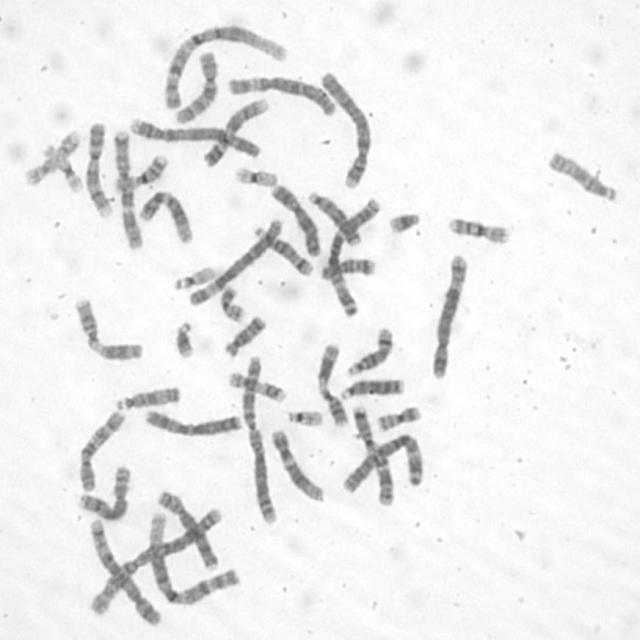A1: (158, 22, 290, 112), (144, 506, 242, 607)
A2: (84, 507, 226, 617), (239, 351, 279, 528)
A3: (322, 194, 383, 319), (338, 431, 428, 496)
B4: (316, 67, 373, 192), (128, 116, 264, 161)
B5: (85, 516, 164, 628), (429, 251, 471, 380)
C10: (75, 406, 126, 492), (171, 48, 220, 126)
C11: (71, 294, 146, 364), (314, 340, 351, 429)
C12: (268, 424, 325, 504), (137, 187, 195, 245)
C6: (184, 214, 284, 308), (224, 71, 337, 118)
C7: (348, 401, 396, 508), (110, 126, 145, 251)
C8: (153, 486, 220, 572), (75, 462, 132, 522)
C9: (200, 95, 270, 168), (83, 119, 114, 220)
D13: (304, 187, 362, 248), (338, 374, 407, 402)
D14: (250, 222, 314, 277), (343, 322, 395, 378)
D15: (545, 147, 620, 205), (113, 382, 182, 412)
E16: (110, 150, 170, 194), (444, 213, 511, 246)
E17: (21, 127, 83, 188), (225, 368, 288, 405)
E18: (221, 313, 268, 359), (318, 254, 377, 282)
F19: (40, 139, 84, 195), (232, 163, 279, 189)
F20: (374, 402, 423, 433), (218, 283, 248, 324)
G21: (172, 316, 197, 362), (386, 209, 422, 235)
G22: (171, 262, 217, 292), (284, 406, 324, 429)
X: (269, 180, 323, 258), (140, 405, 244, 439)
